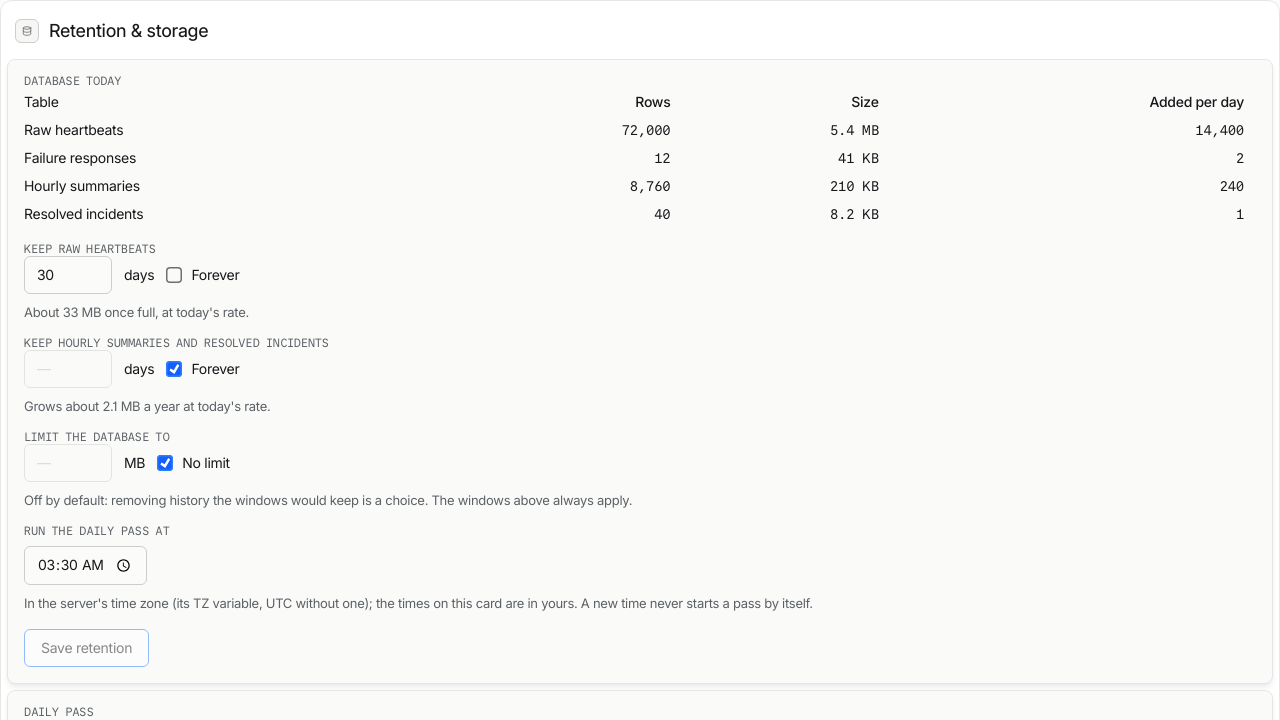
Test case: does not save a shorter window until its preview has answered
Replace the text in the number field named "Keep raw heartbeats, in days" with "7": (68, 275) [24, 256, 112, 294]
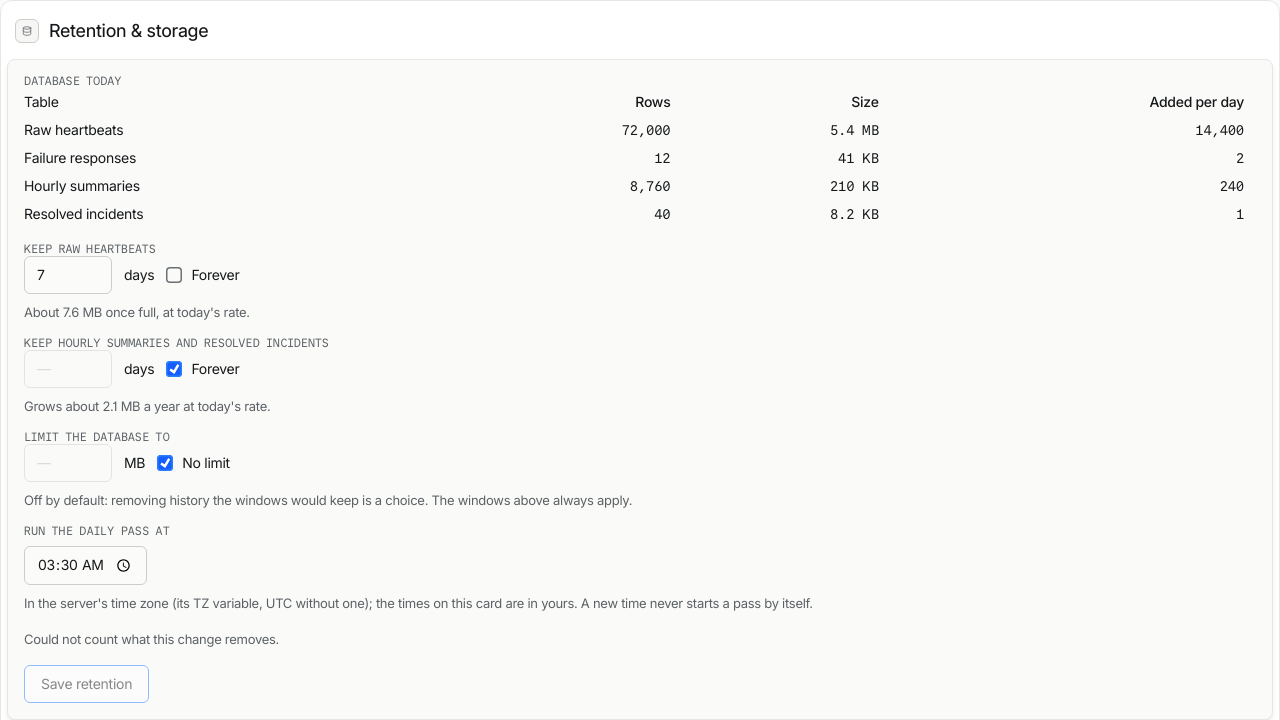
Result: the text "Could not count what this change removes." is shown at [24, 631, 279, 647]
